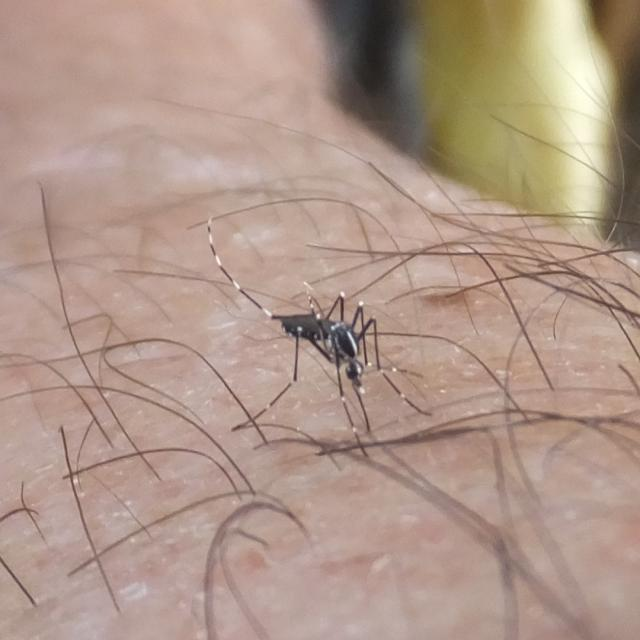albopictus: (157, 180, 450, 467)
